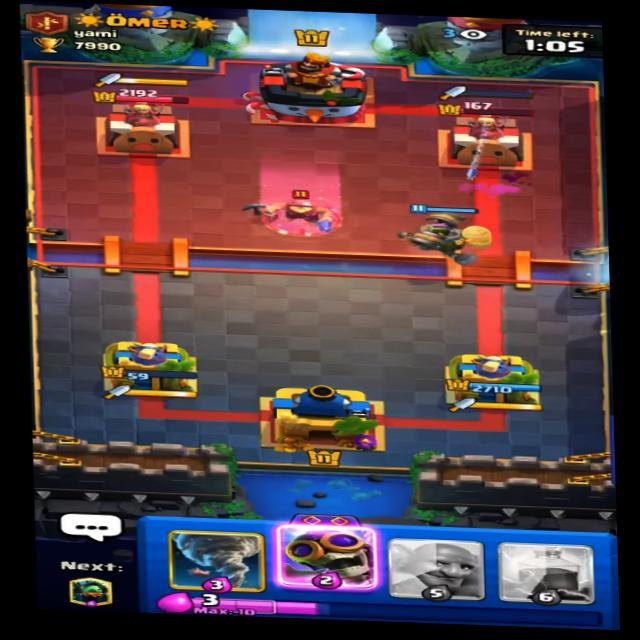fisherman: (245, 180, 352, 238)
